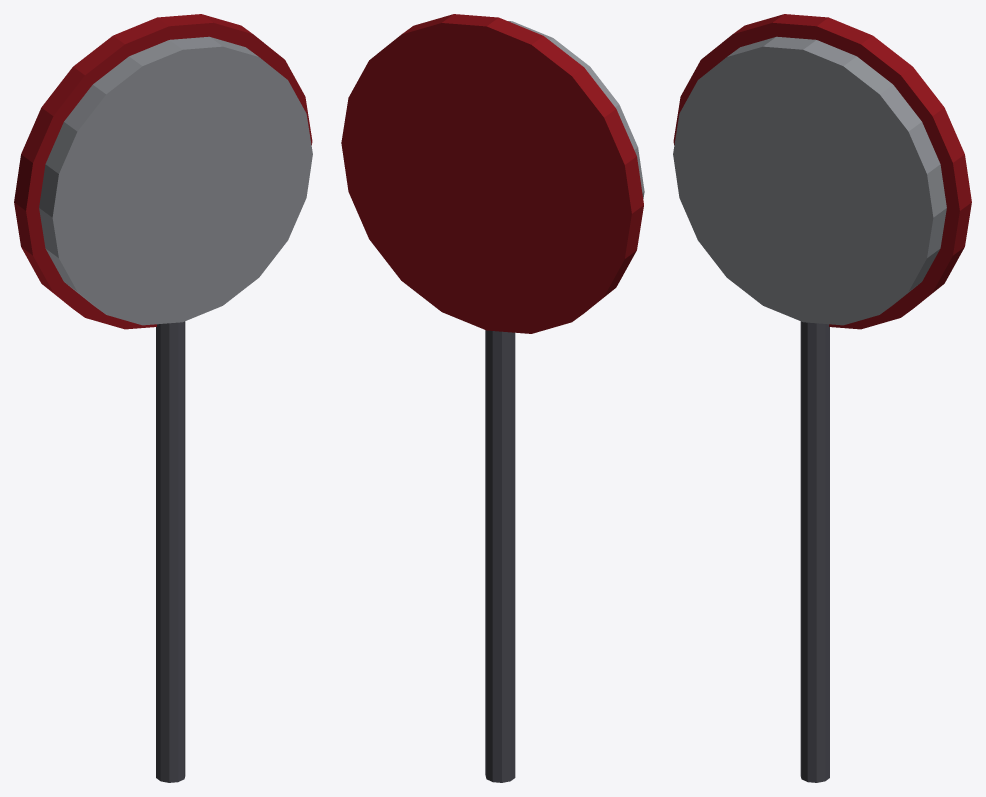
The model's file is SM_K_TrafficMirror.obj.
3 views of the same model, side by side, from view 1: azimuth 30°, elevation 25°; view 2: azimuth 150°, elevation 25°; view 3: azimuth 330°, elevation 25° (orthographic).
Parts seen in each view (by area): view 1: SM_K_TrafficMirror; view 2: SM_K_TrafficMirror; view 3: SM_K_TrafficMirror.
Part boxes in pixels (x1=…): SM_K_TrafficMirror: x1=14, y1=14, x2=312, y2=782; SM_K_TrafficMirror: x1=341, y1=14, x2=644, y2=782; SM_K_TrafficMirror: x1=673, y1=14, x2=971, y2=782.
Size of the model in its own units: 1.1 by 2.75 by 0.17.
